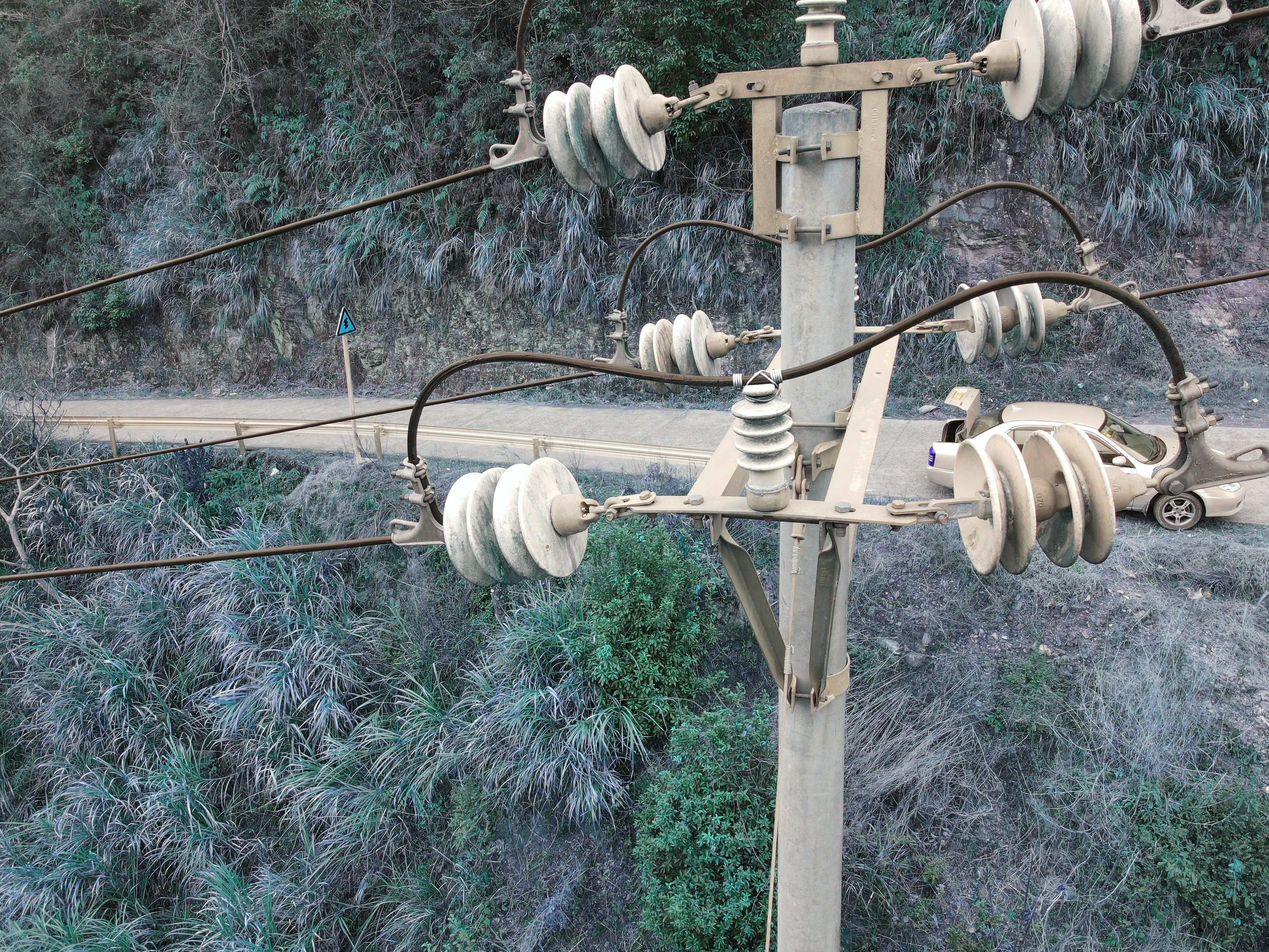severe_soiling_no_discharge_whole: (946, 423, 1149, 581), (440, 454, 601, 592), (977, 4, 1146, 119), (540, 61, 682, 195), (950, 270, 1070, 366), (728, 381, 799, 513), (637, 309, 740, 398), (792, 2, 850, 64)
